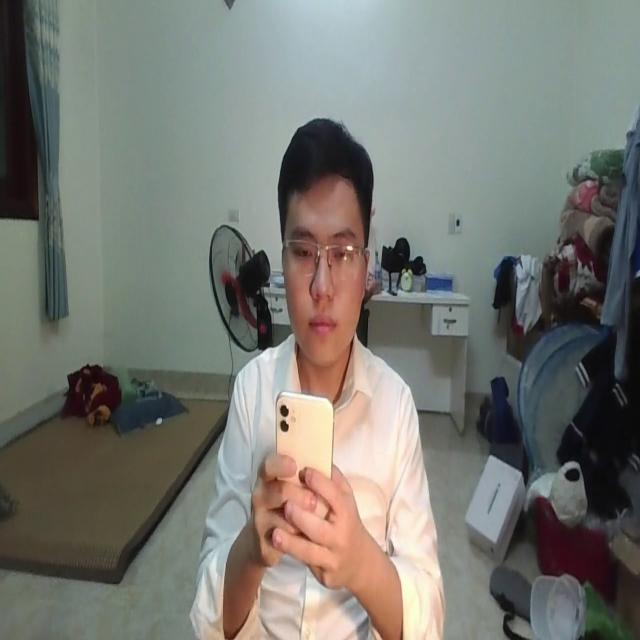student: (203, 112, 441, 640), (271, 386, 336, 547)
